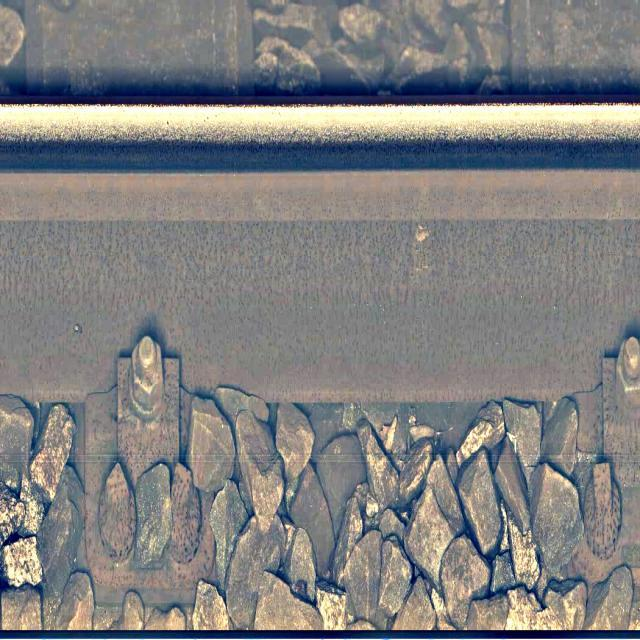Good Fasteners: (86, 336, 199, 567), (586, 337, 639, 564)
